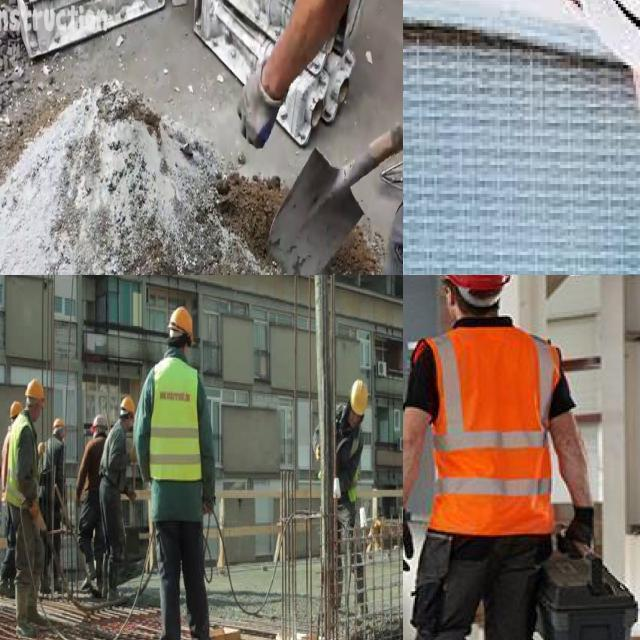hand_glove: (558, 502, 608, 565), (403, 499, 421, 582)
head_helmet: (433, 275, 510, 292), (171, 308, 195, 341), (352, 381, 371, 418), (26, 377, 42, 398), (54, 415, 68, 430), (8, 400, 21, 412), (124, 396, 133, 412)
person: (403, 275, 595, 640), (152, 310, 223, 640), (324, 385, 377, 519), (19, 374, 46, 626), (105, 395, 136, 565), (79, 408, 105, 580), (0, 393, 17, 583), (47, 415, 67, 517)
vest: (410, 323, 561, 537), (152, 362, 204, 483), (4, 414, 34, 505)
